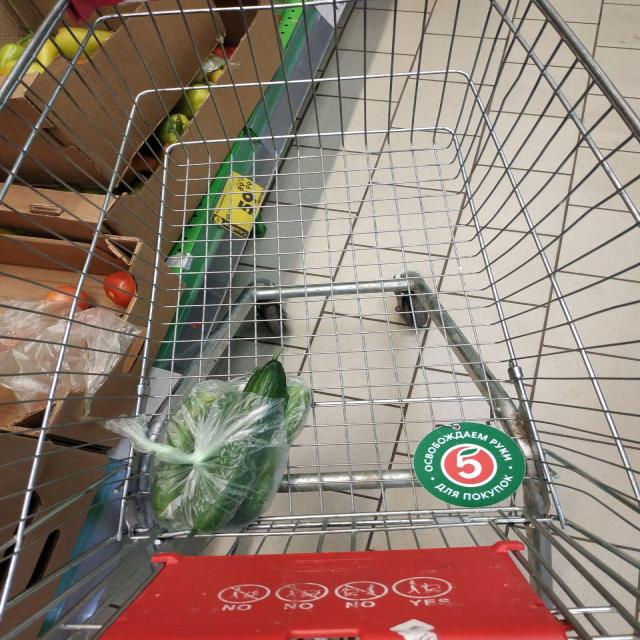Cucumber: (188, 460, 273, 531), (243, 351, 287, 399), (152, 469, 170, 518)
